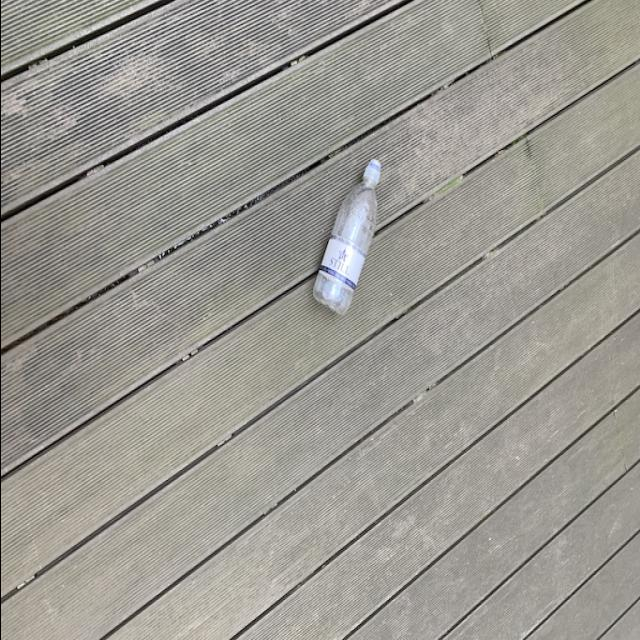litter: (310, 155, 382, 317)
